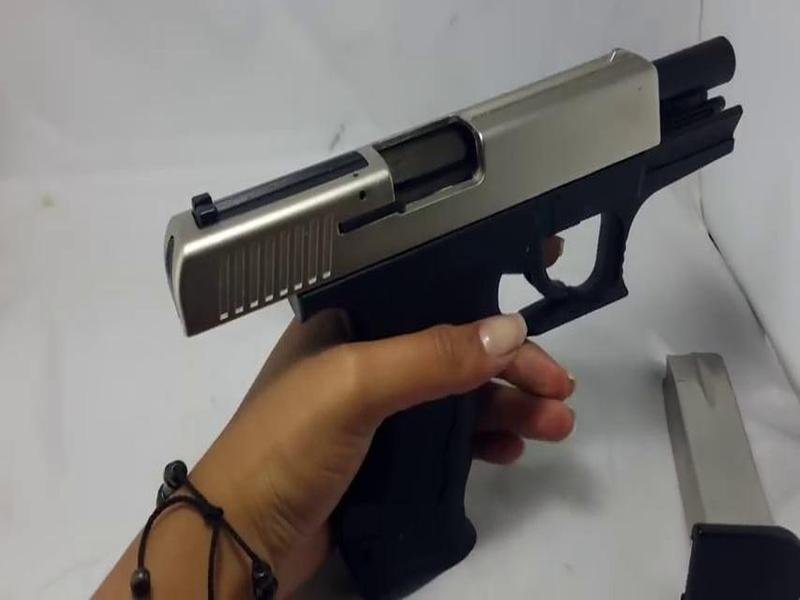Pistola: (154, 31, 792, 572)
